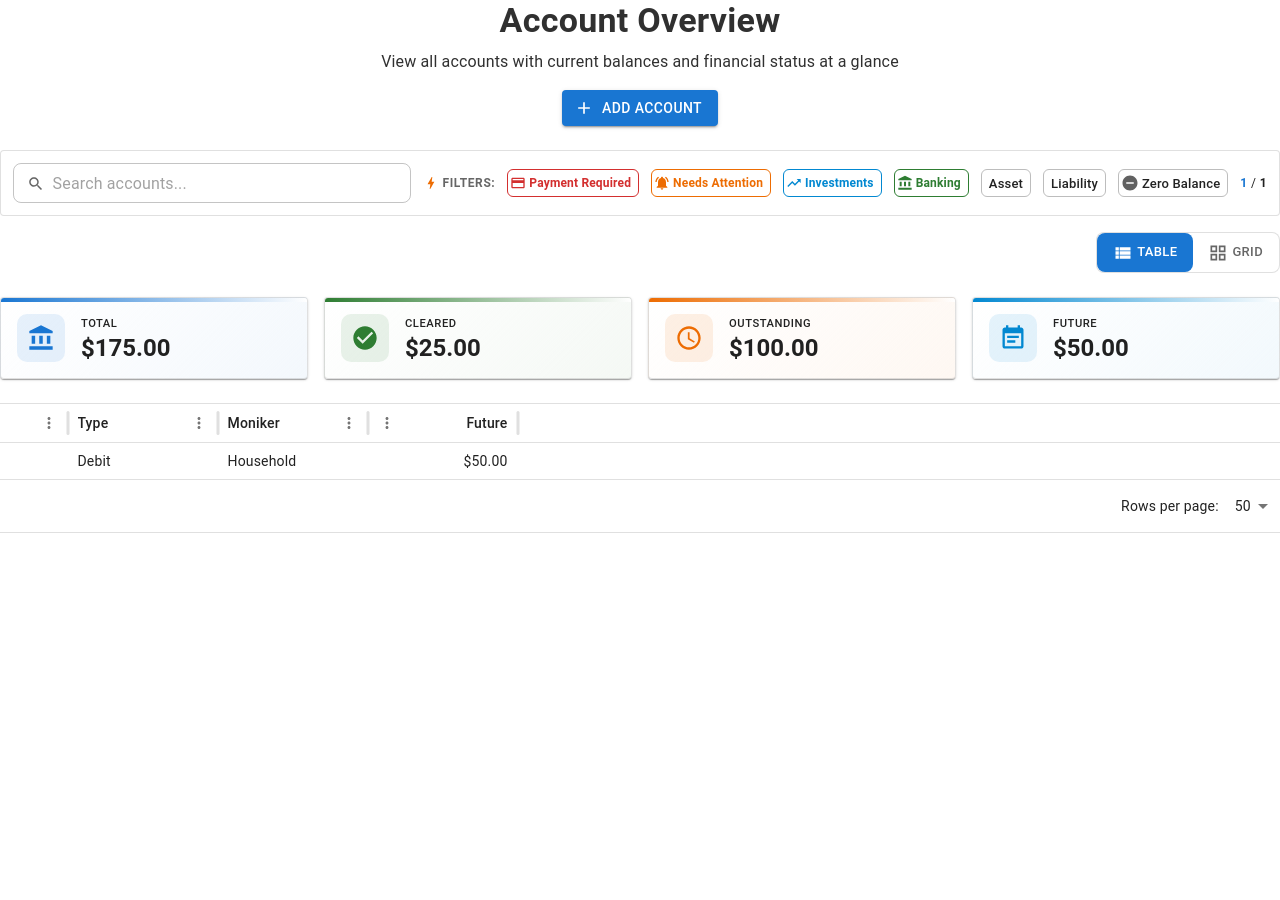
Scenario: pages/finance/index (Accounts) › renders totals table and opens Add Account modal
Expected: the text "$175.00" is shown, 81,336 -> 171,360
Expected: the text "$25.00" is shown, 405,336 -> 481,360
// Open the add modal
Click the button "Add Account": (640, 108) 562,90 -> 718,126
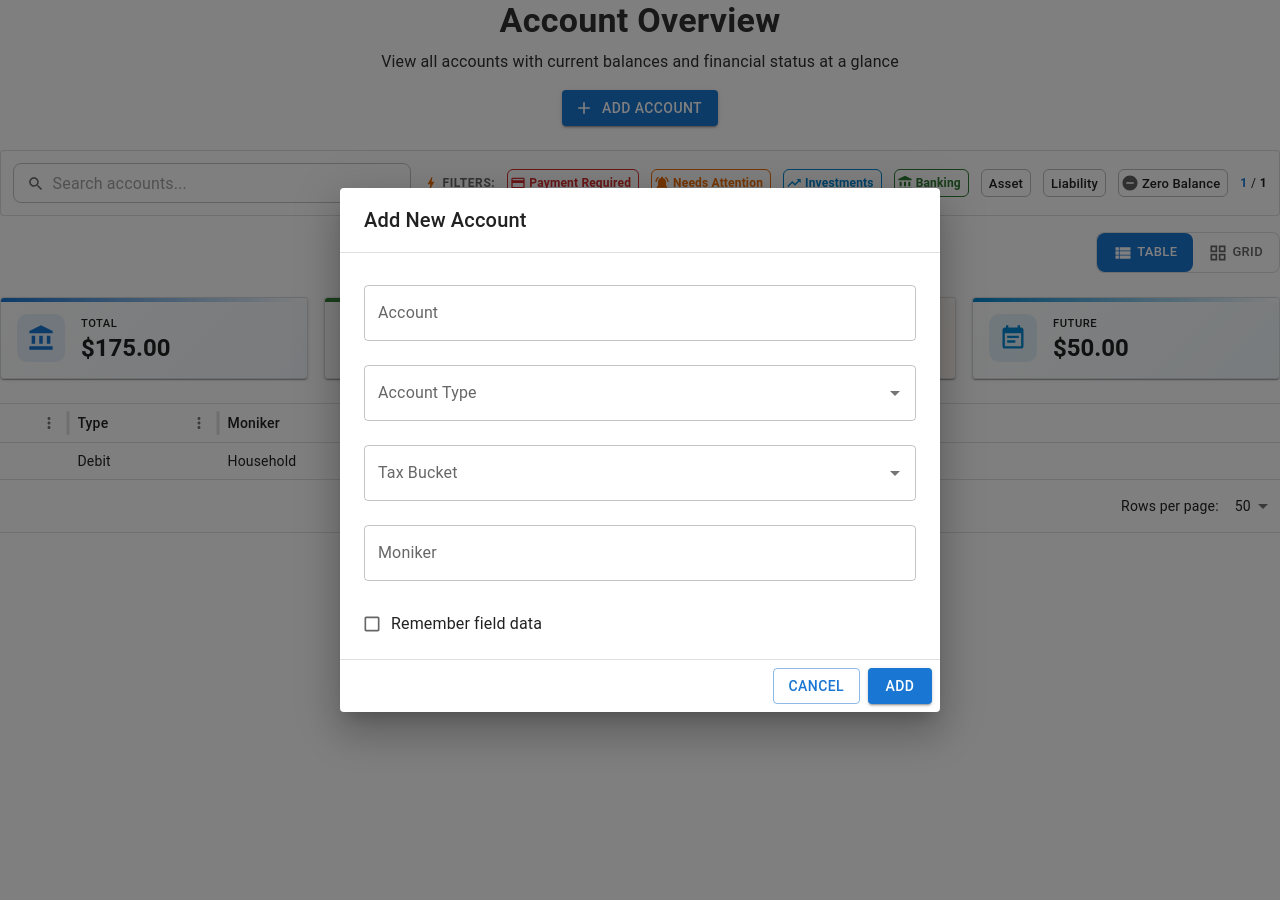
Now the heading "Add New Account" is shown, box 364,208 -> 526,232
